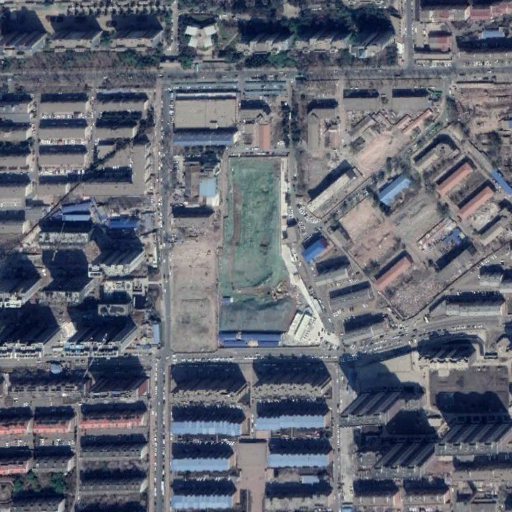cw: (216, 156, 298, 333)
